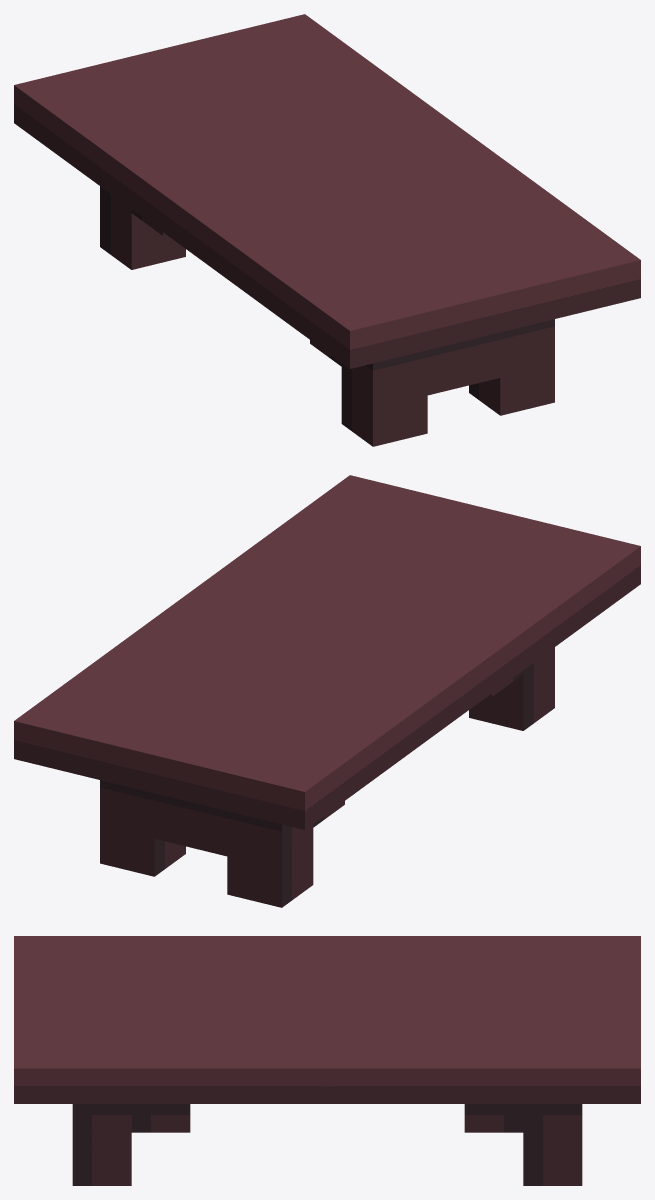
Rendered from locker_benchao.fezao.glb.
3 renders of one model, top to bottom at view 1: azimuth 30°, elevation 25°; view 2: azimuth 150°, elevation 25°; view 3: azimuth 270°, elevation 25°, orthographic. The views are drawn at different scales.
Parts seen in each view (by area): view 1: LOCKER_BENCHAO; view 2: LOCKER_BENCHAO; view 3: LOCKER_BENCHAO.
Boxes of the visible parts, x1,y1,x2,y2 form: LOCKER_BENCHAO: (14,14,640,446); LOCKER_BENCHAO: (14,475,640,907); LOCKER_BENCHAO: (14,936,640,1185).
Bounding box in the file's own units: 1 × 0.5 × 2.
1 material, 1 textured.
